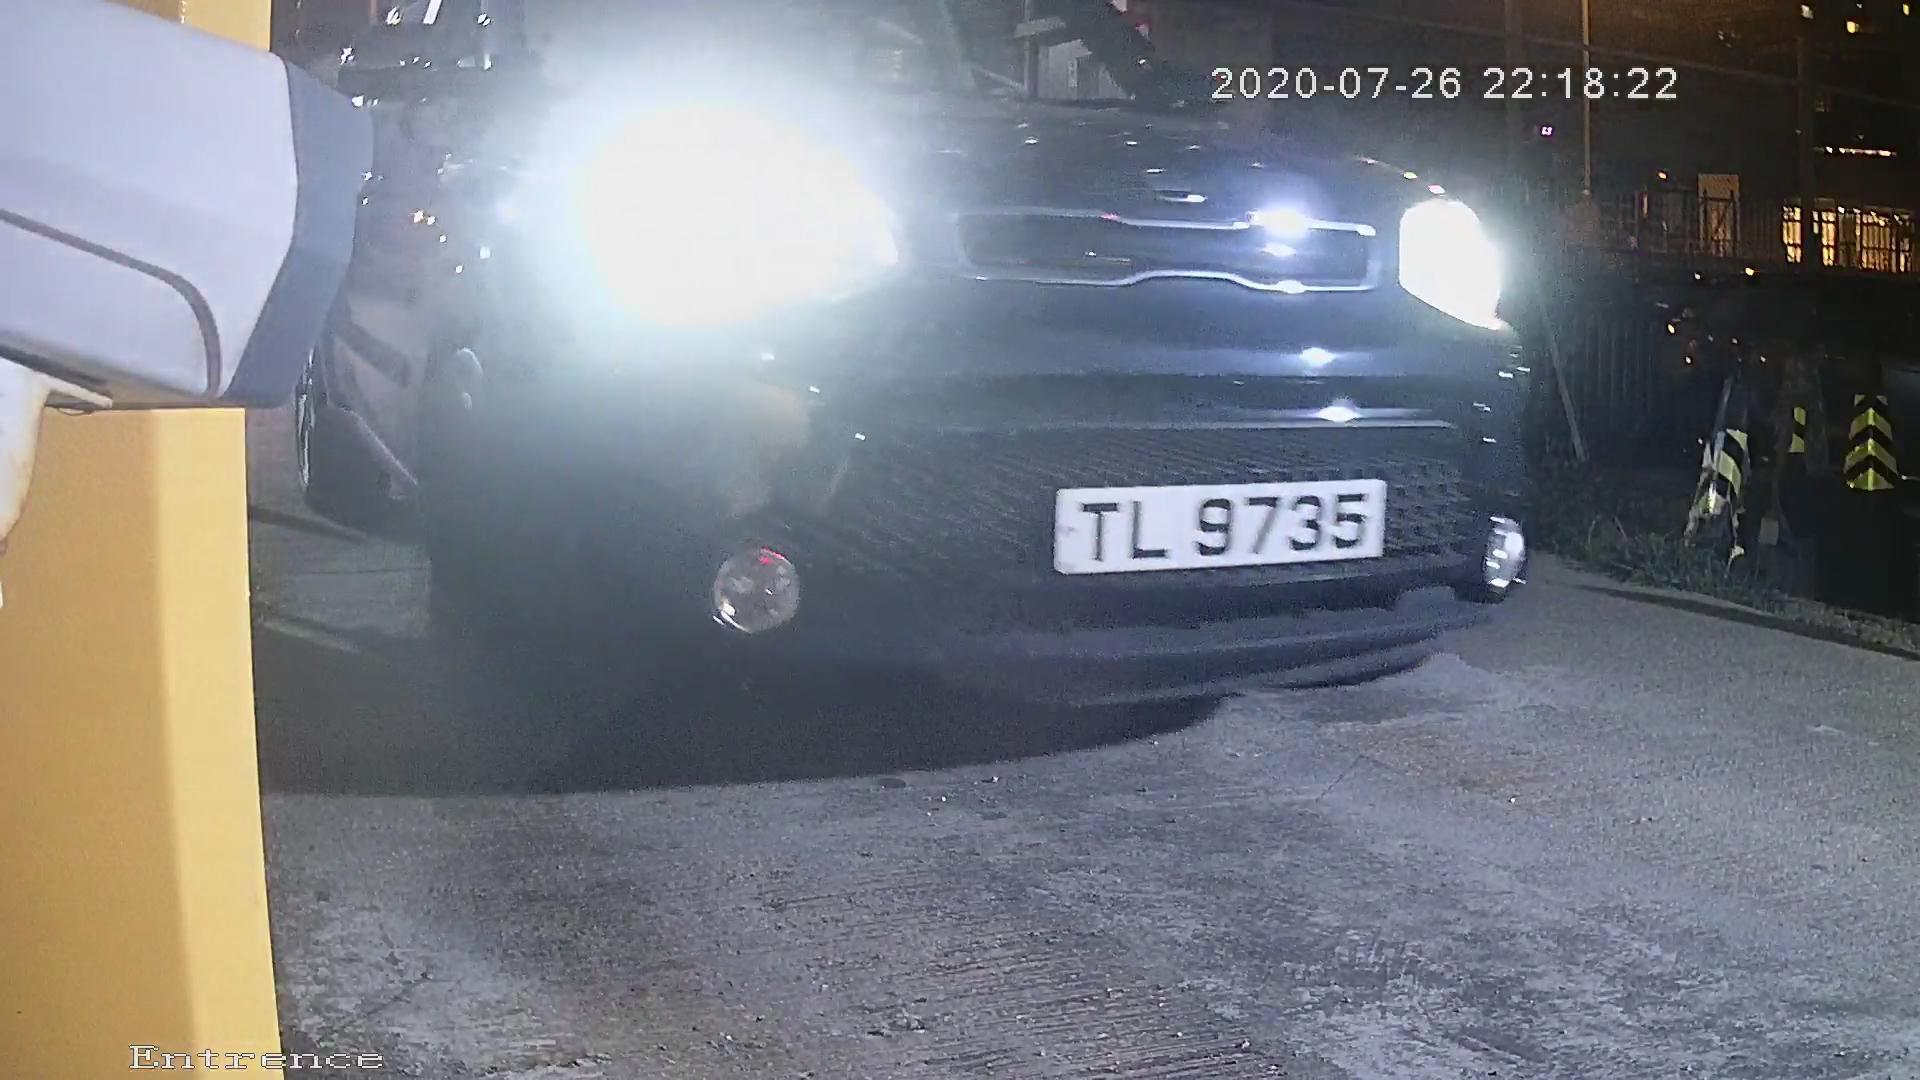Car: (129, 54, 1595, 801)
License Plate: (1021, 463, 1406, 579)
